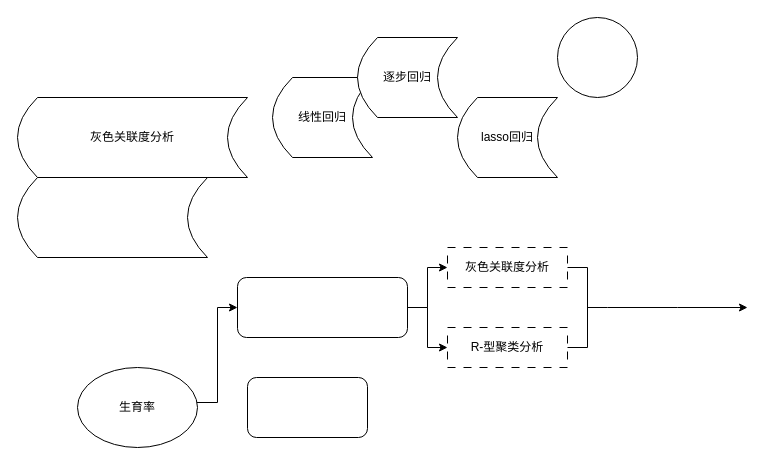
Image size: 773x465. Some labels were removed from this diagram. Here are the shapes that lost their labels. From the top down, the box of each, then its label:
(556, 16, 638, 98): 查找数据
(16, 176, 208, 258): R-型聚类
(236, 276, 408, 338): 数据预处理：筛选主要变量
